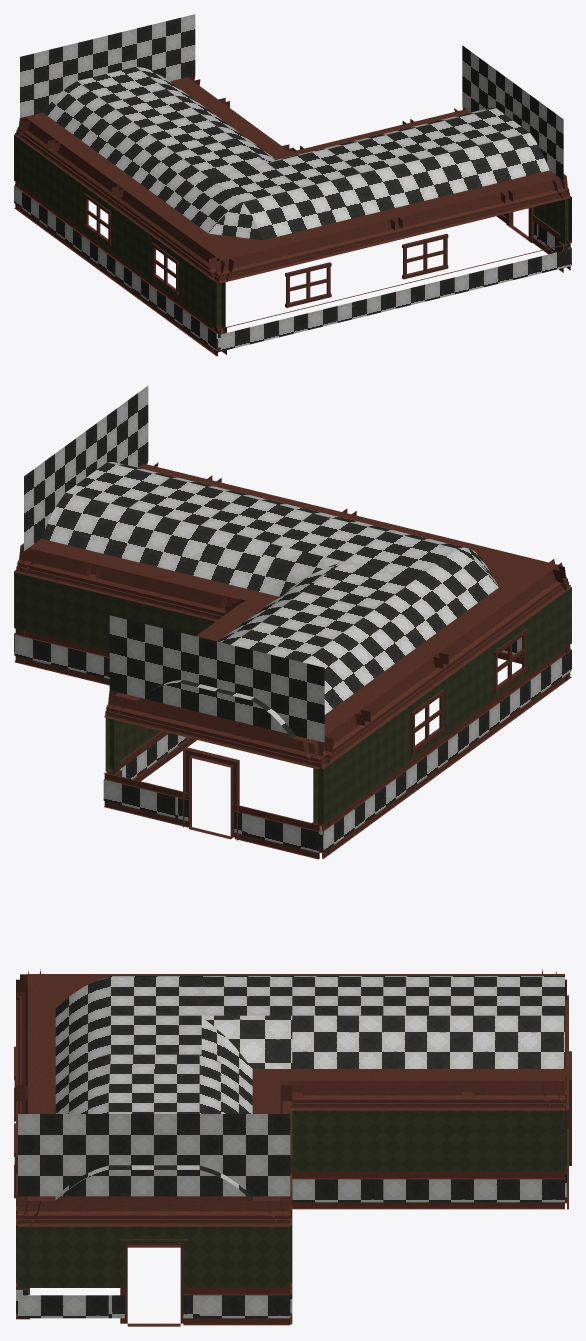
The model's file is Room_5.fbx.
The picture shows the model from 3 angles, top to bottom: view 1: azimuth 30°, elevation 25°; view 2: azimuth 150°, elevation 25°; view 3: azimuth 270°, elevation 25°; orthographic projection. The views are drawn at different scales.
Parts seen in each view (by area): view 1: Plane.001; view 2: Plane.001; view 3: Plane.001.
Boxes of the visible parts, <box> form: Plane.001: <box>14,14,571,356</box>; Plane.001: <box>14,386,571,859</box>; Plane.001: <box>14,969,571,1326</box>.
Size of the model in its own units: 1224 by 500 by 1229.
